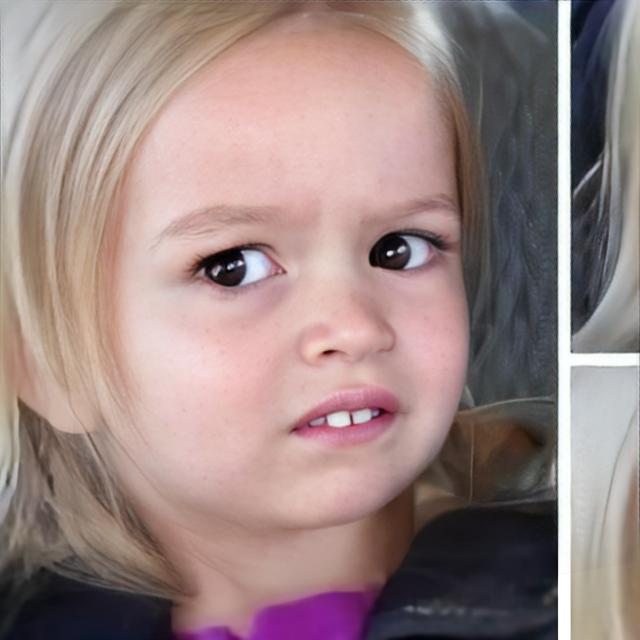disgust: (100, 14, 472, 536)
